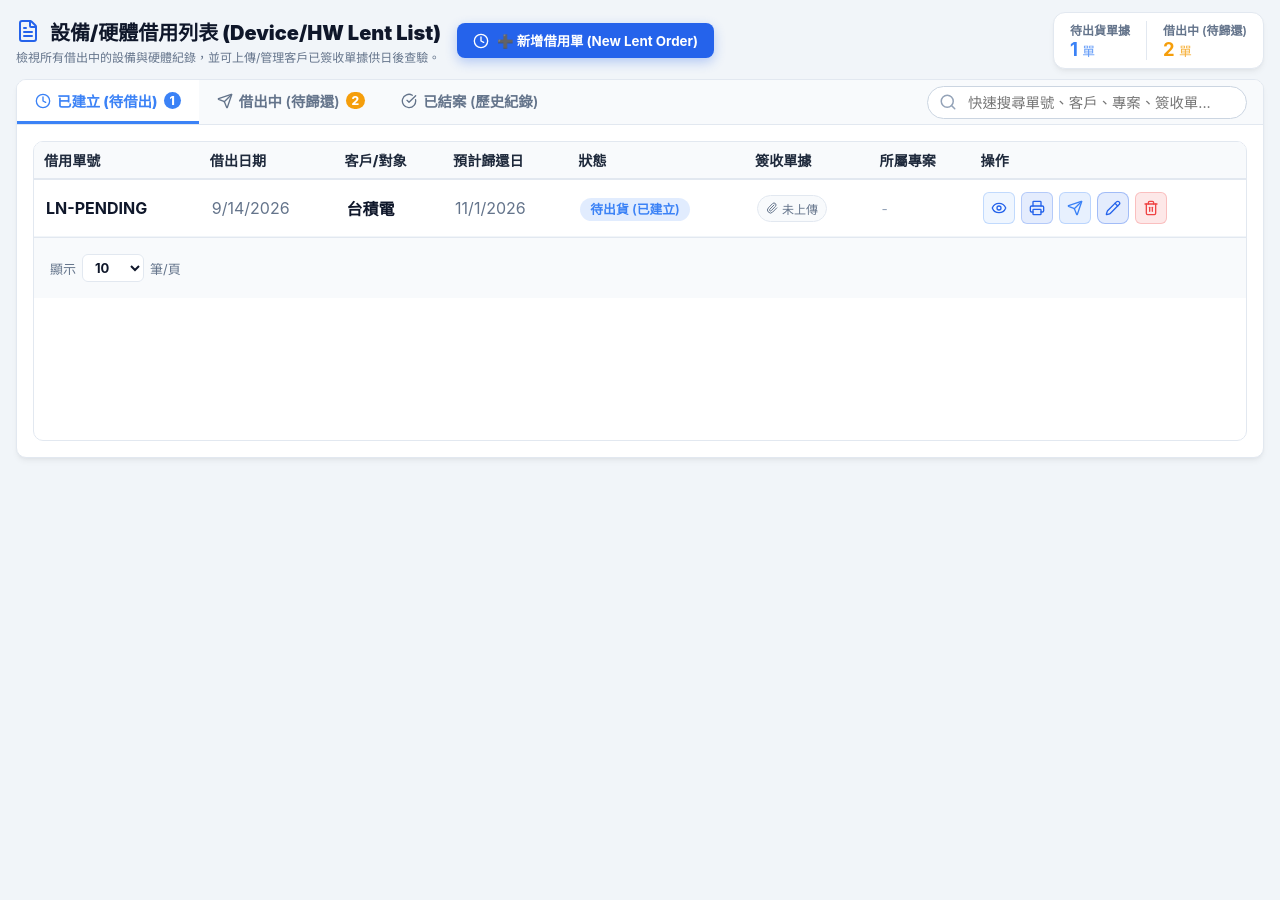
Test: 借用列表上延長 › 已逾期的顯示逾期天數，並從今天起算
The width and height of the screenshot is (1280, 900).
Check: the text "LN-PENDING" is shown, box [34,179,200,236]
Click the button "借出中 (待歸還) 2": click(291, 102) [199,80,383,124]
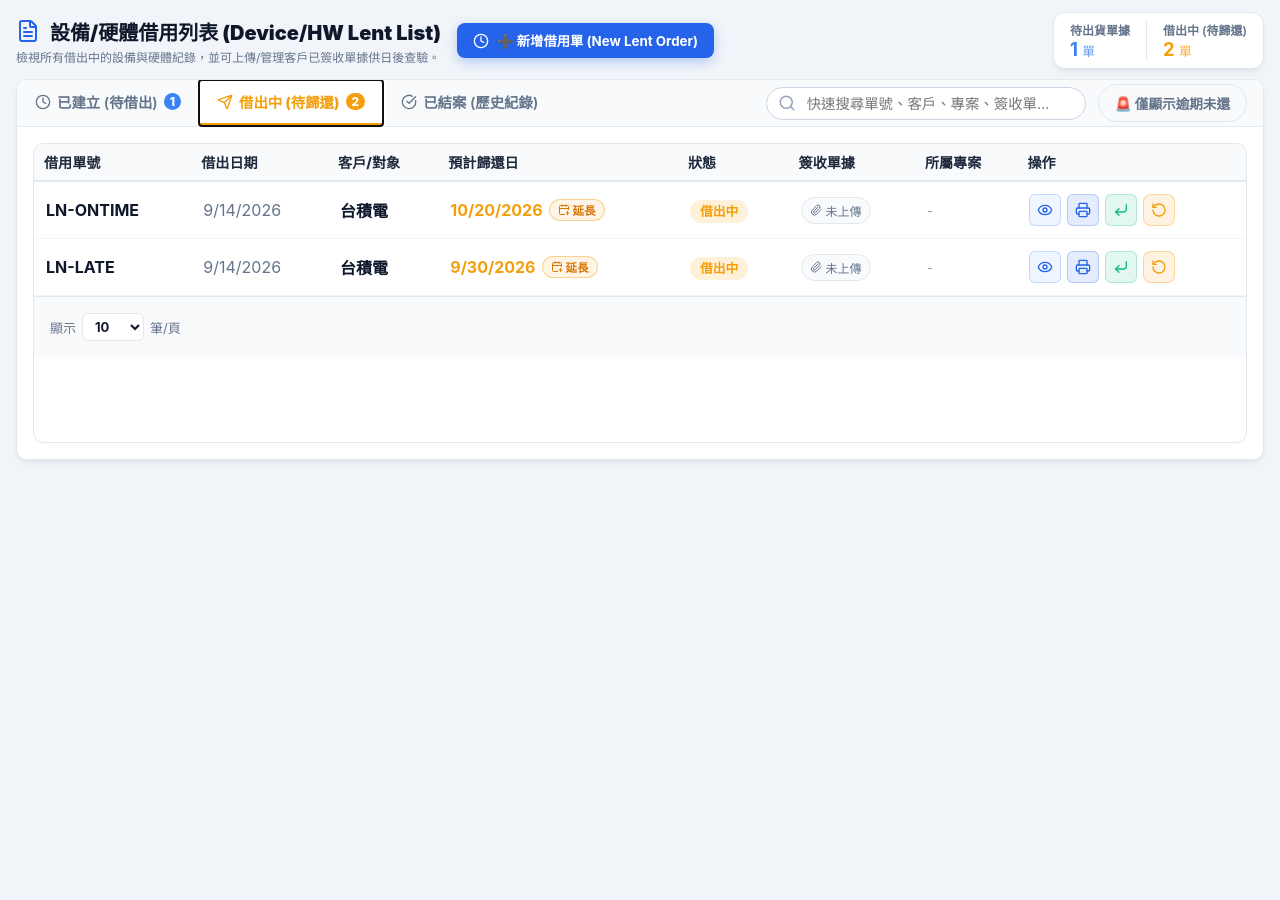
Check: the text "LN-ONTIME" is shown, box [34,181,191,238]
Click the button with aria-label "延長預計歸還日 LN-LATE": click(570, 267) [542,256,598,278]
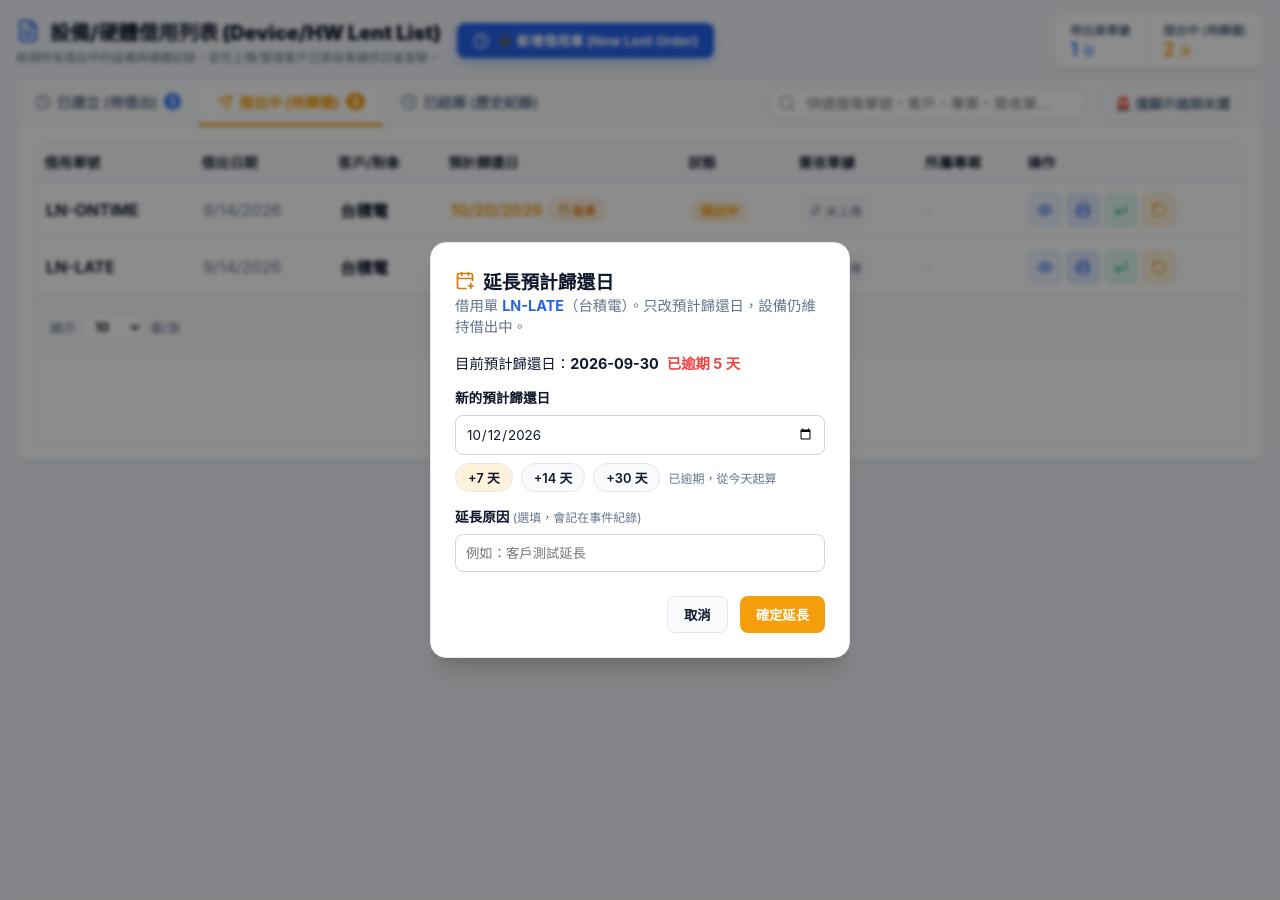
Check: the element with test id "extend-current" shows "已逾期 5 天", box [455,355,740,372]
Check: the date field labelled "新的預計歸還日" holds "2026-10-12", box [455,415,825,455]
